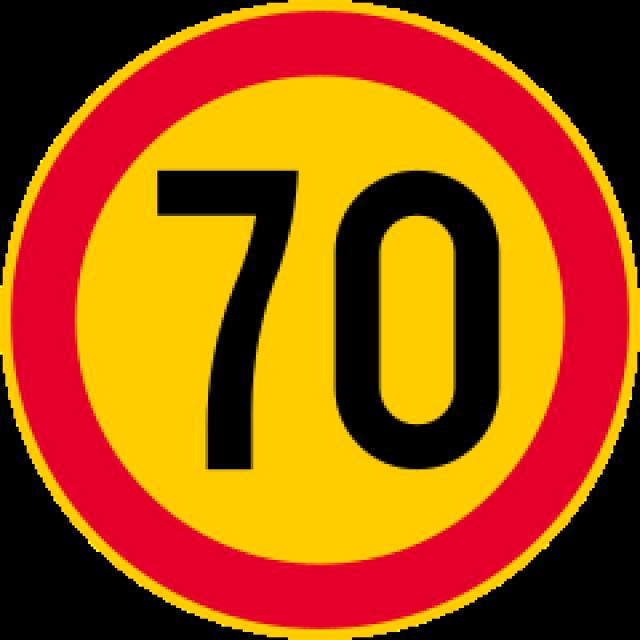Speed Limit -70-: (122, 132, 524, 505)
